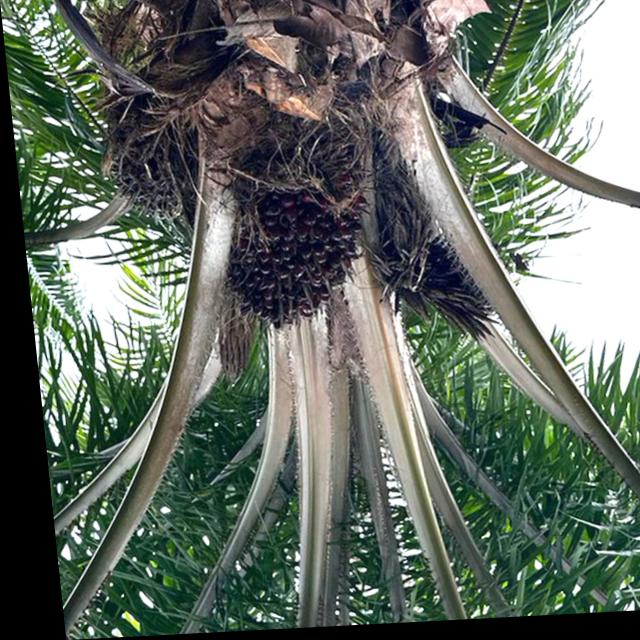almost: (208, 162, 372, 337)
